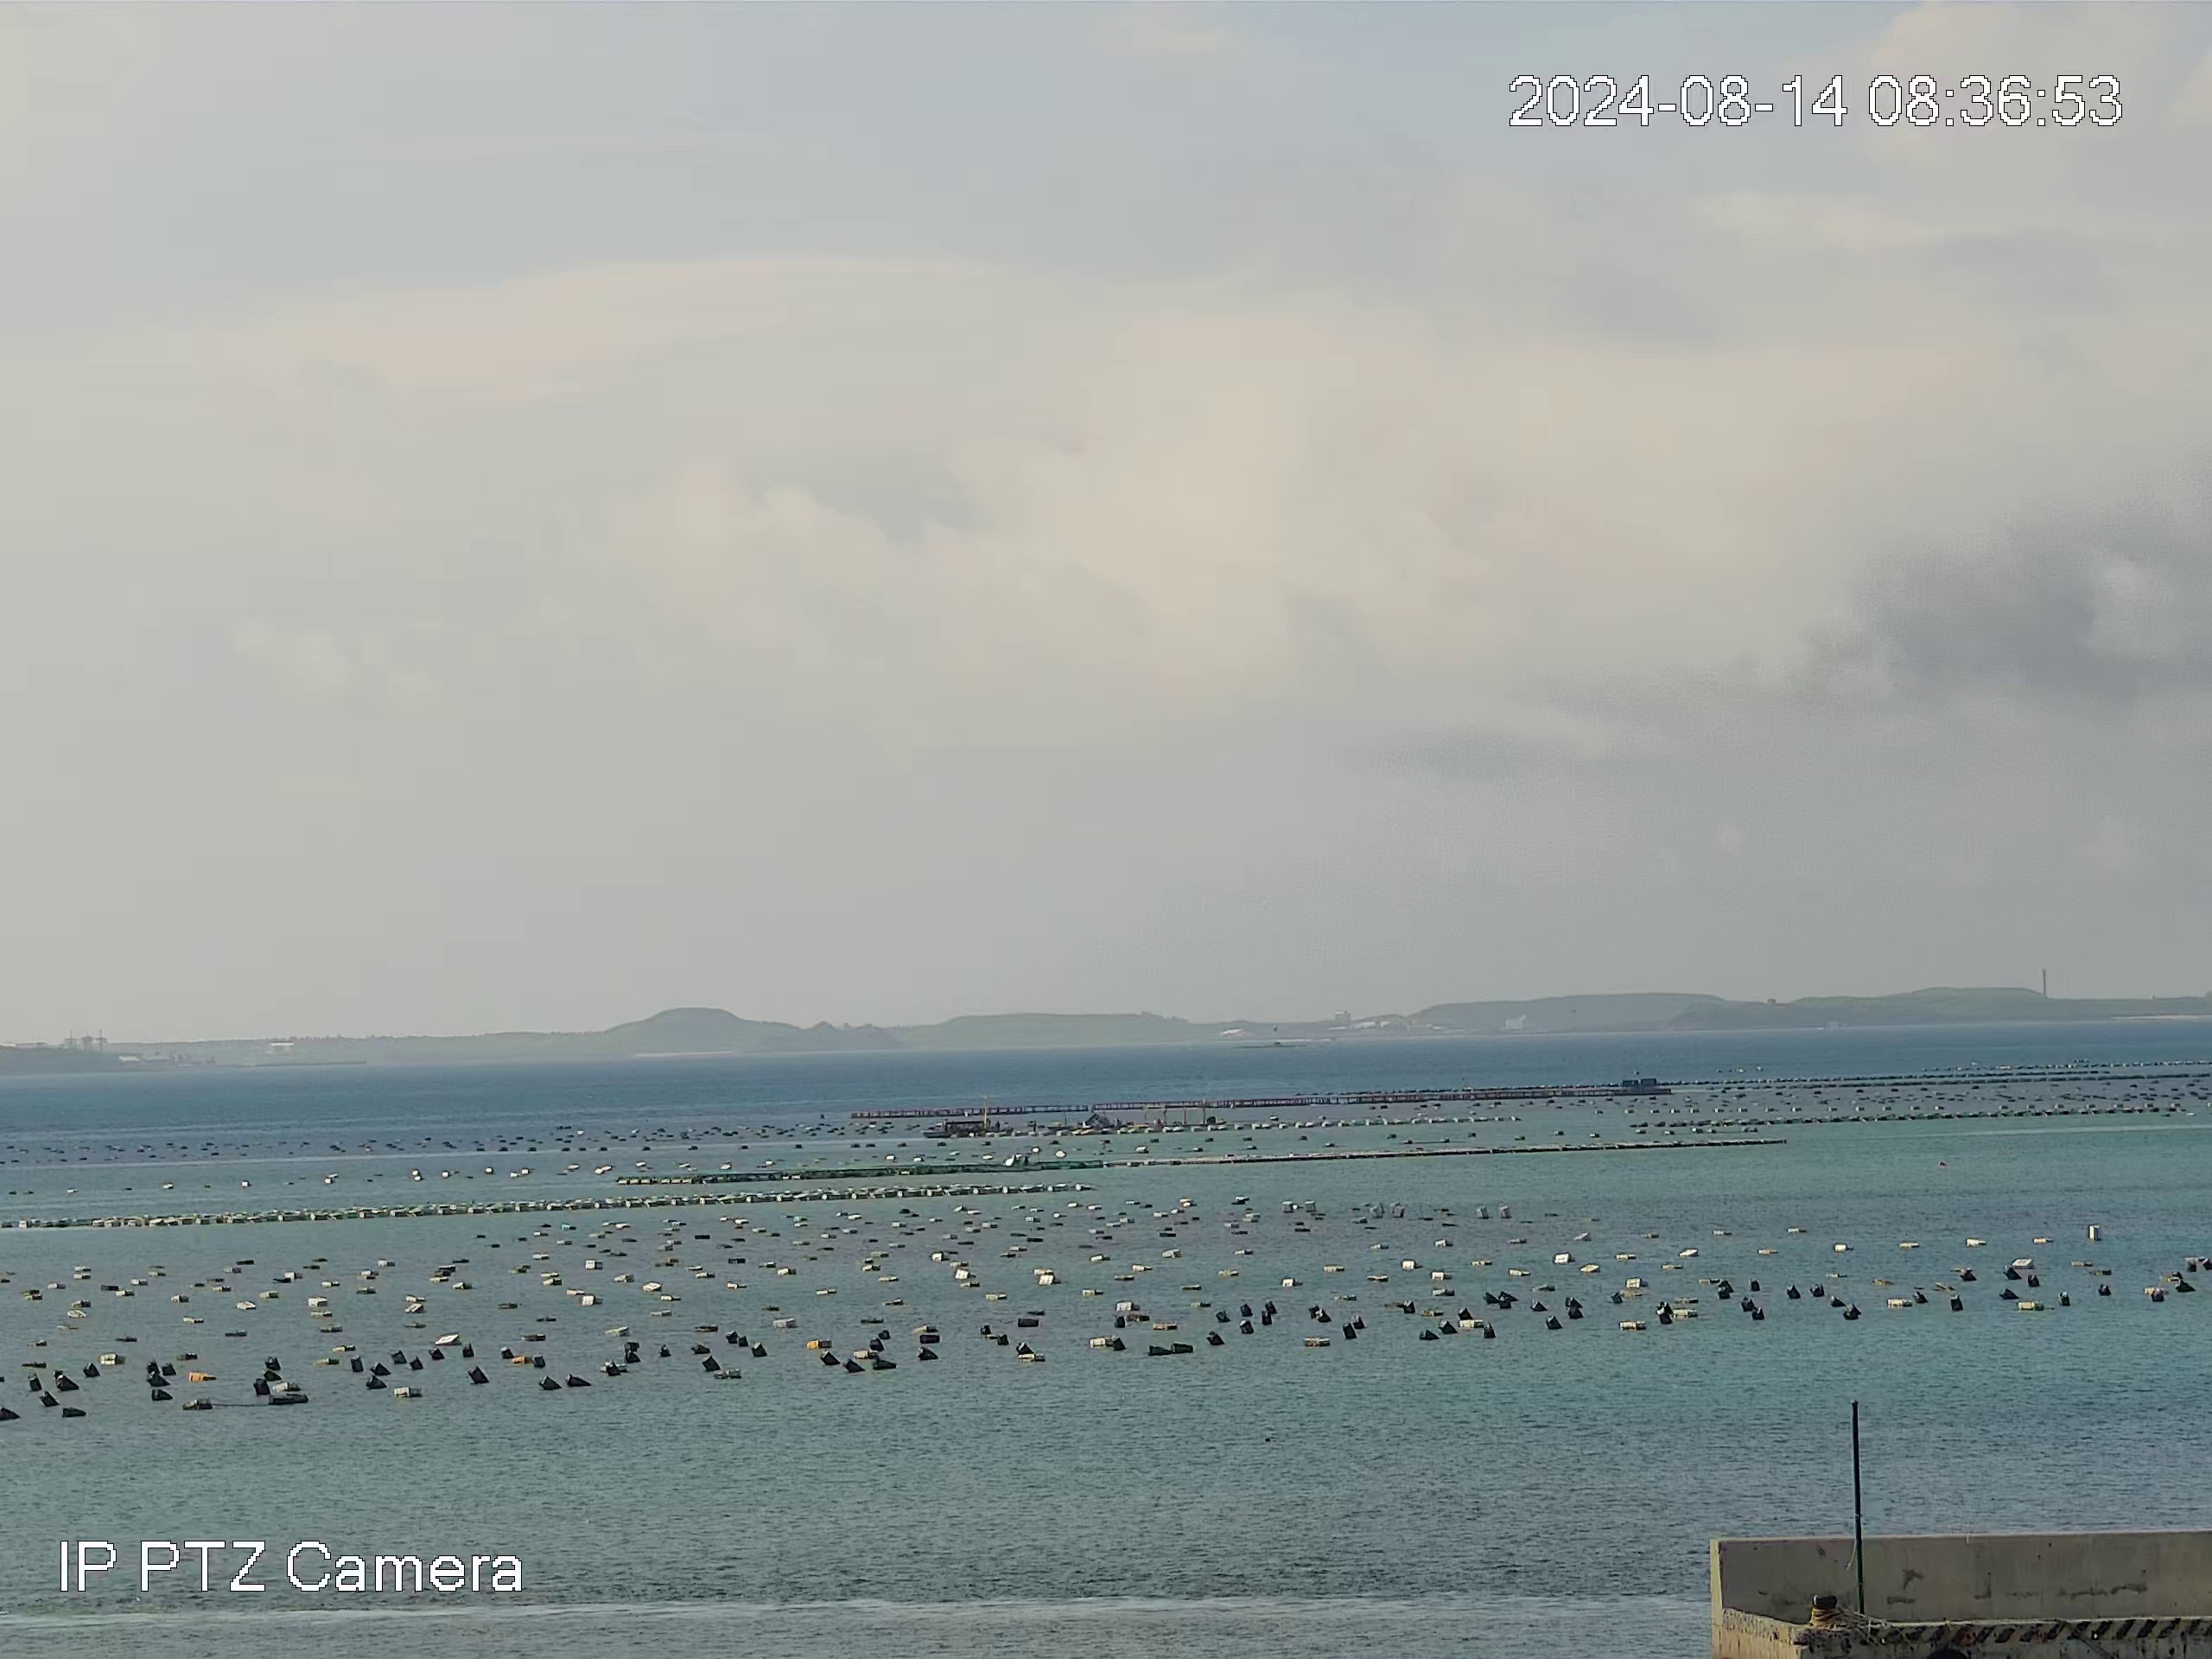boat: (925, 1117, 988, 1143)
